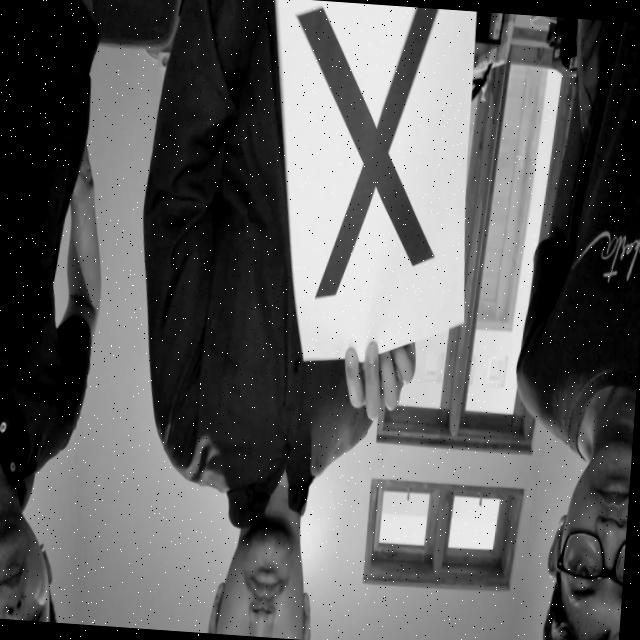x: (237, 0, 480, 322)
